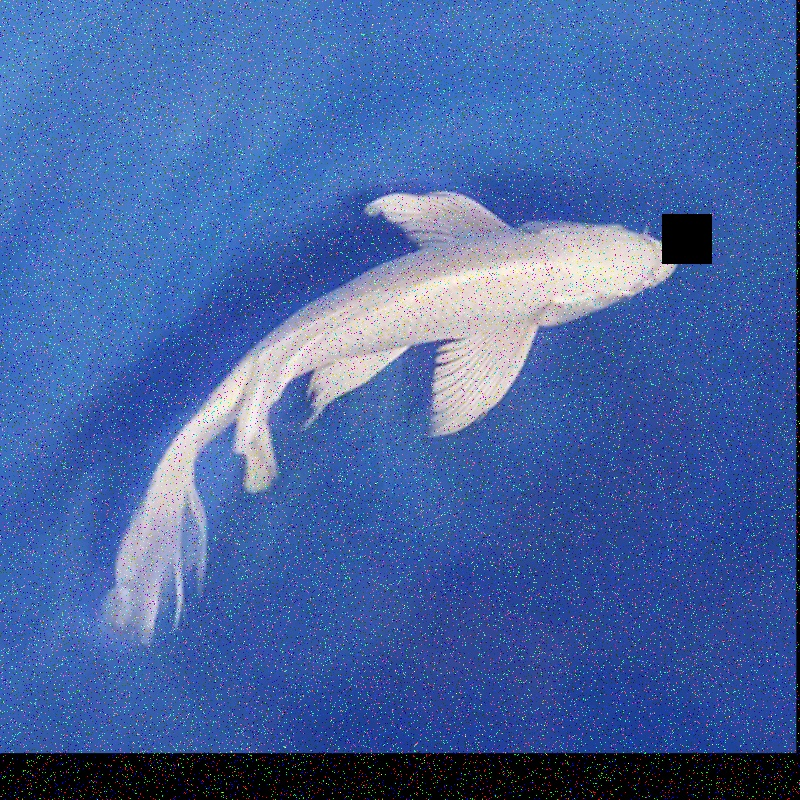fry: (86, 139, 690, 646)
